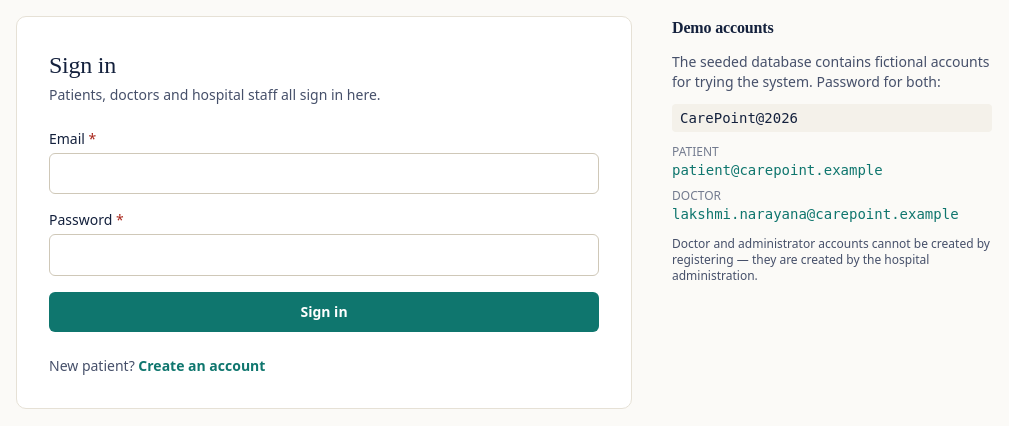
Test: Login form › demo account buttons fill in the form
Click the button "patient@carepoint.example". click: [777, 170]
box: [672,160,883,180]
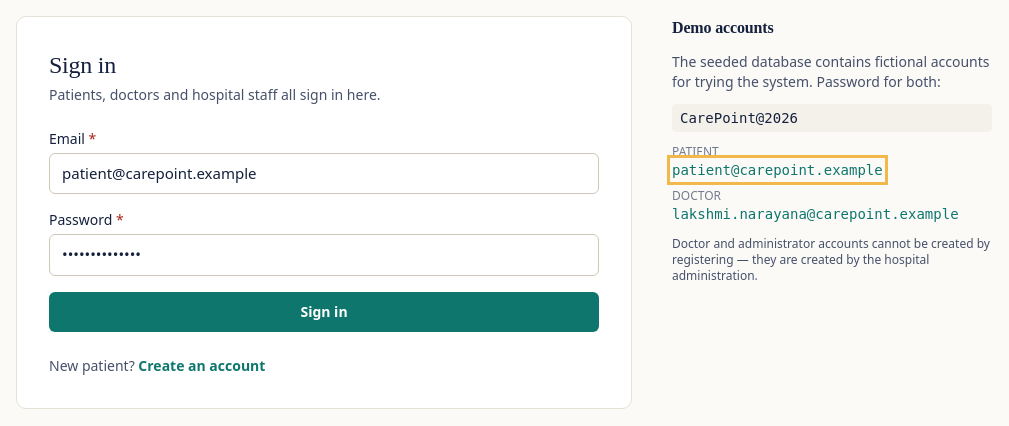
Expected: the field labelled "Email *" holds "patient@carepoint.example", [49,153,599,194]
